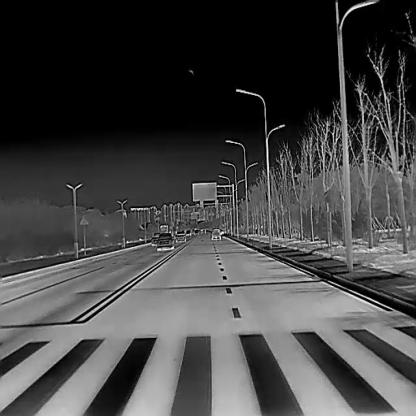car: (156, 233, 174, 250), (210, 226, 222, 239), (175, 228, 186, 242), (150, 232, 161, 246), (185, 229, 191, 236), (193, 228, 199, 235)
